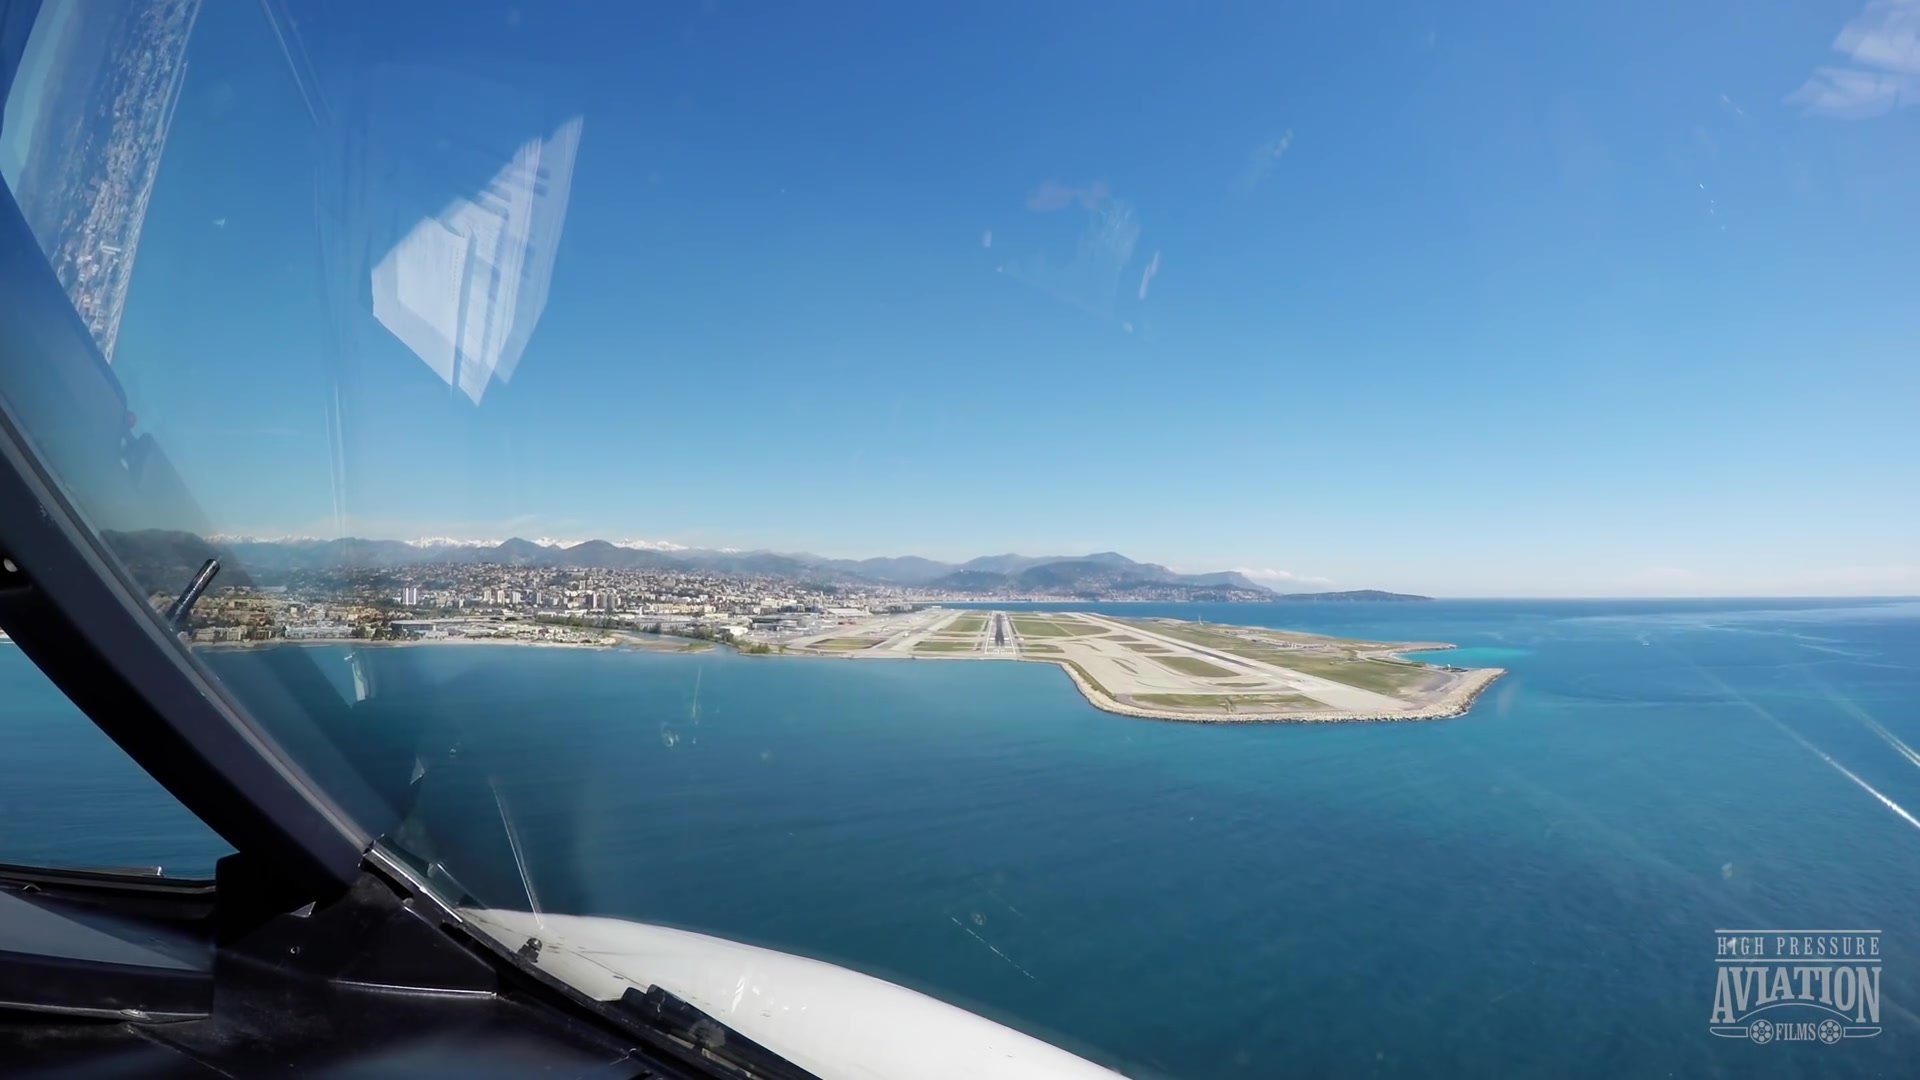runway: (984, 612, 1015, 657)
